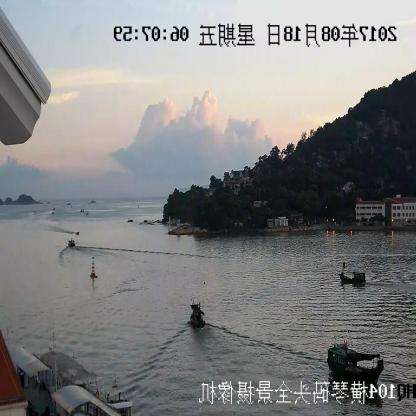Fishing Boat: (328, 347, 383, 383), (190, 302, 206, 328), (340, 268, 364, 284)
